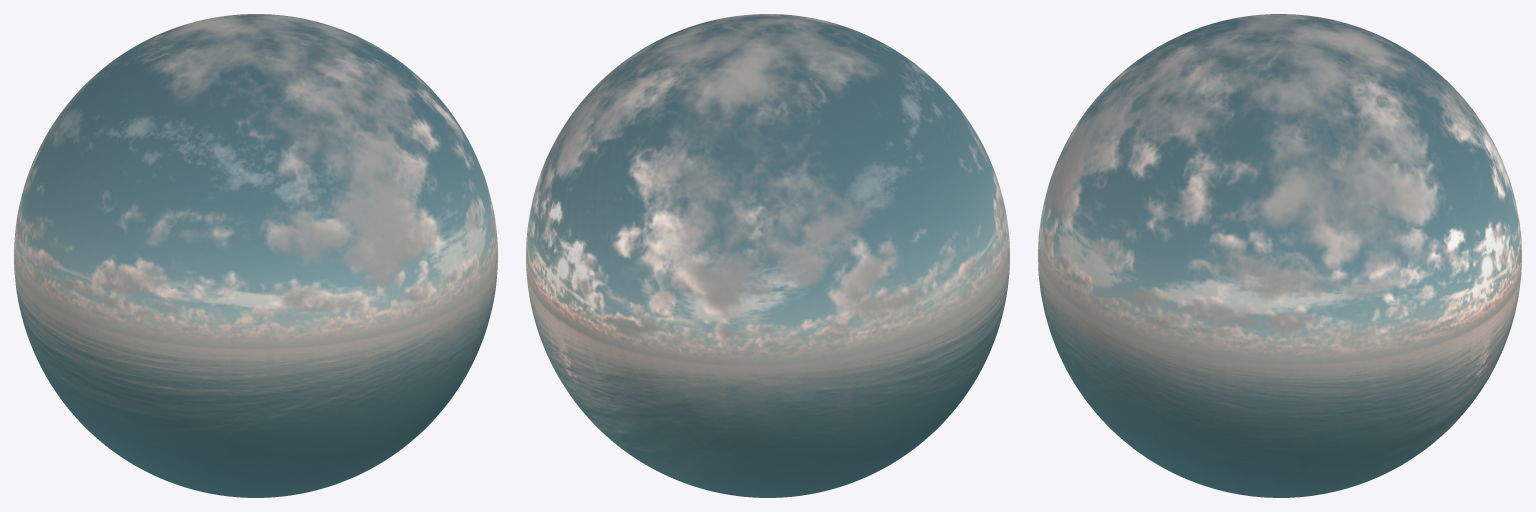
Rendered from background.glb.
3 views of the same model, side by side, from view 1: azimuth 30°, elevation 25°; view 2: azimuth 150°, elevation 25°; view 3: azimuth 270°, elevation 25° (orthographic).
Visible parts, largest first — view 1: Sphere; view 2: Sphere; view 3: Sphere.
Part boxes in pixels (x1,y1,x2,y2): Sphere: [14, 14, 497, 497]; Sphere: [526, 14, 1009, 497]; Sphere: [1038, 14, 1521, 497].
Bounding box in the file's own units: 4.07 × 4.07 × 4.07.
Materials: 1 (1 with a texture image).
